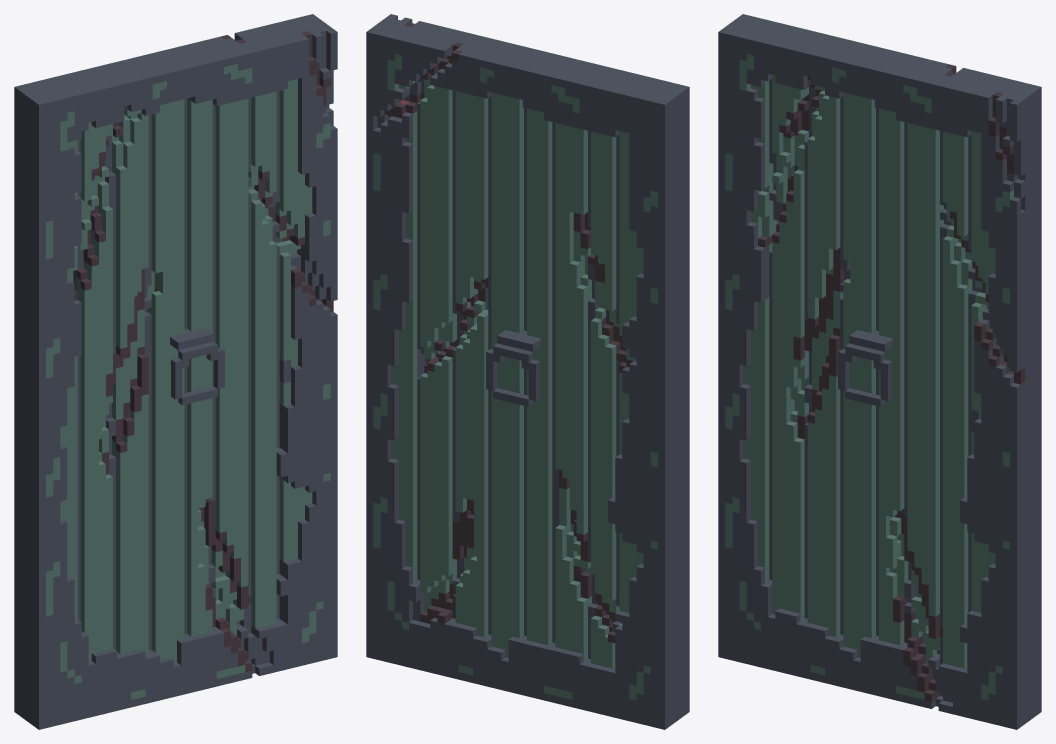
The model's file is puerta_azul.obj.
3 renders of one model, left to right at view 1: azimuth 30°, elevation 25°; view 2: azimuth 150°, elevation 25°; view 3: azimuth 330°, elevation 25°, orthographic.
Bounding box in the file's own units: 4.2 × 8.4 × 1.
1 material, 1 textured.
